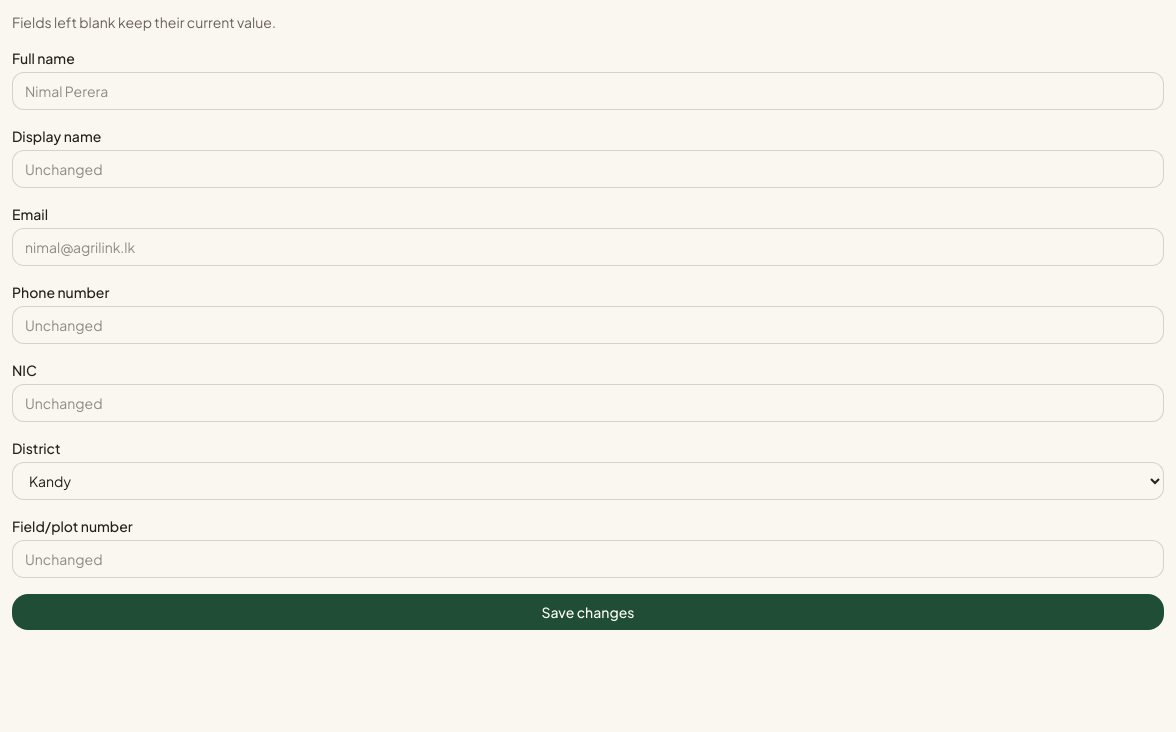
EditUserForm › flags an invalid email and does not submit
The image size is (1176, 732).
Step 1. Type "not-an-email" into the field labelled "Email" → (588, 247), box [12, 228, 1164, 266]
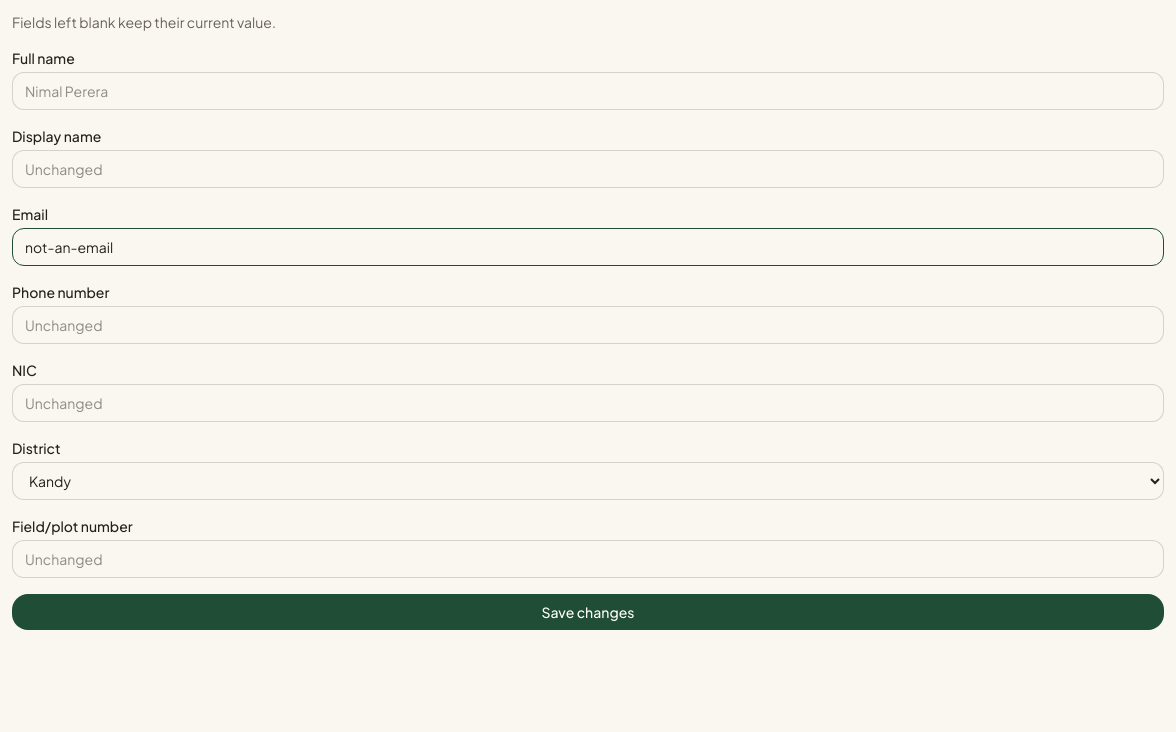
Step 2. Click the button "Save changes" → (588, 612), box [12, 594, 1164, 630]
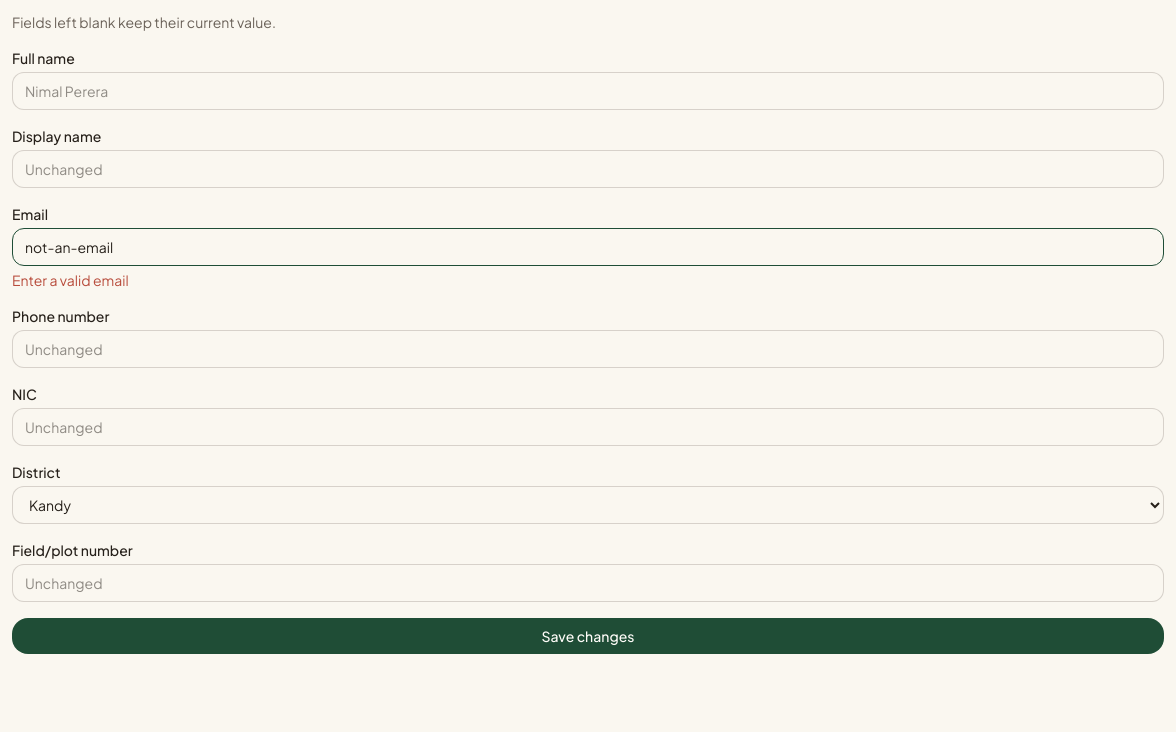
Check: the text "Enter a valid email" is shown, box [12, 271, 129, 289]
